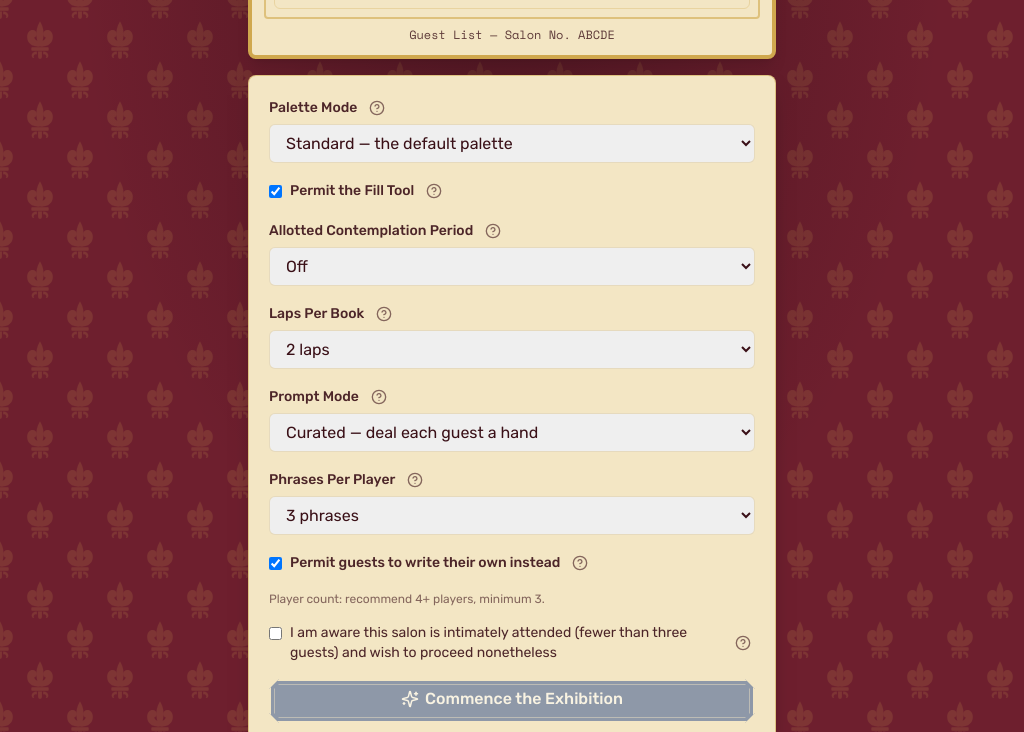
Test: Lobby host-setting info affordances › explains the small-game acknowledgement
(page scrolled)
Click the button named "About proceeding with a small salon".
click(743, 643)  # box [731,631,755,655]
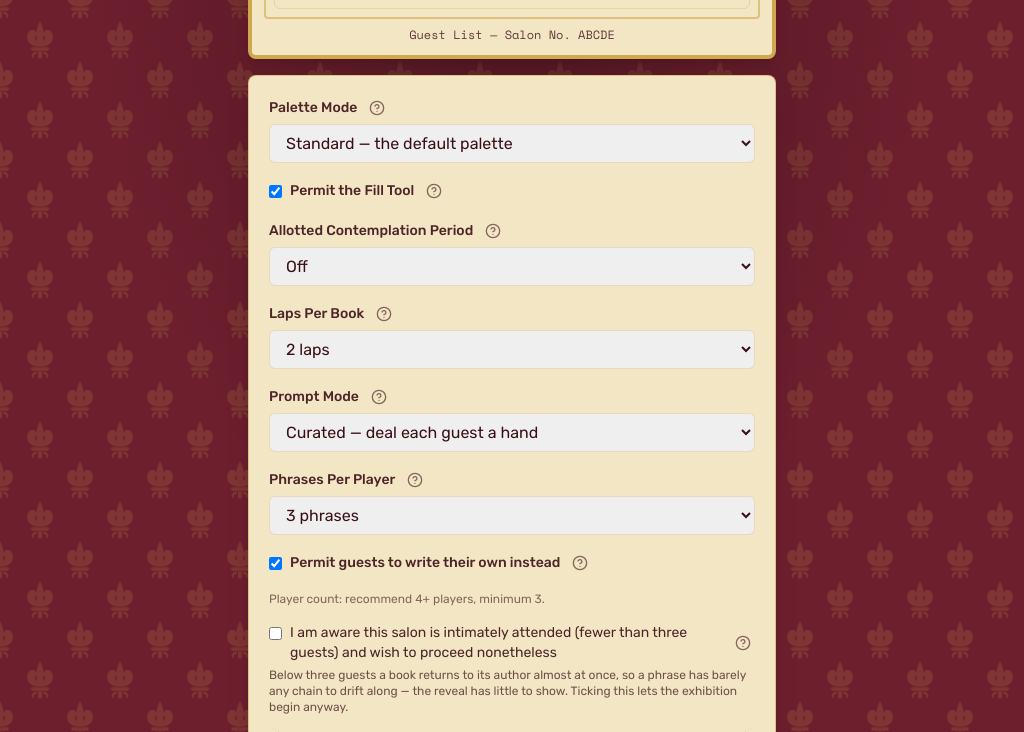
Expected: the text "barely any chain" is shown, [269,668,746,714]
